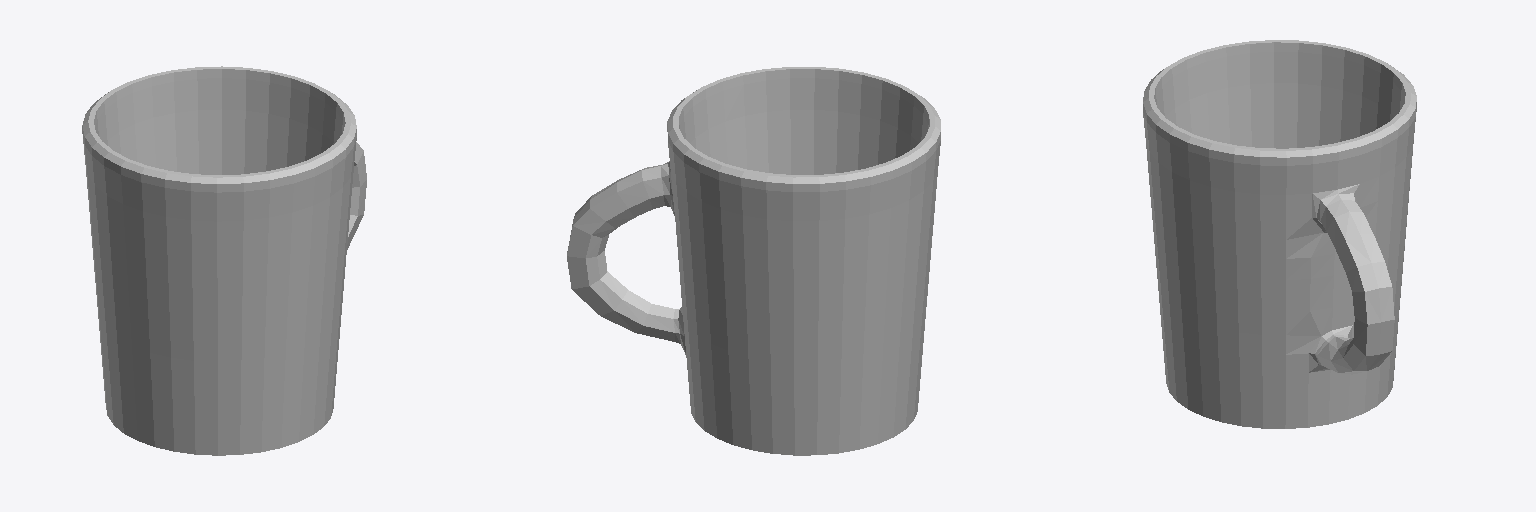
Rendered from Cup.obj.
3 renders of one model, left to right at view 1: azimuth 30°, elevation 25°; view 2: azimuth 150°, elevation 25°; view 3: azimuth 270°, elevation 25°, orthographic.
Visible parts, largest first — view 1: Circle.003; view 2: Circle.003; view 3: Circle.003.
Boxes of the visible parts, <box> form: Circle.003: <box>82,66,366,455</box>; Circle.003: <box>567,67,940,455</box>; Circle.003: <box>1143,40,1416,428</box>.
Size of the model in its own units: 0.0985 by 0.0866 by 0.0754.